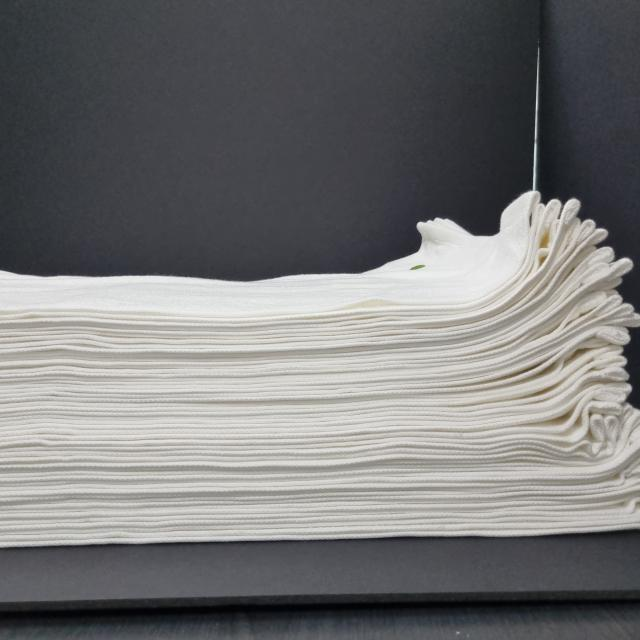50_towel_counts: (0, 186, 640, 581)
